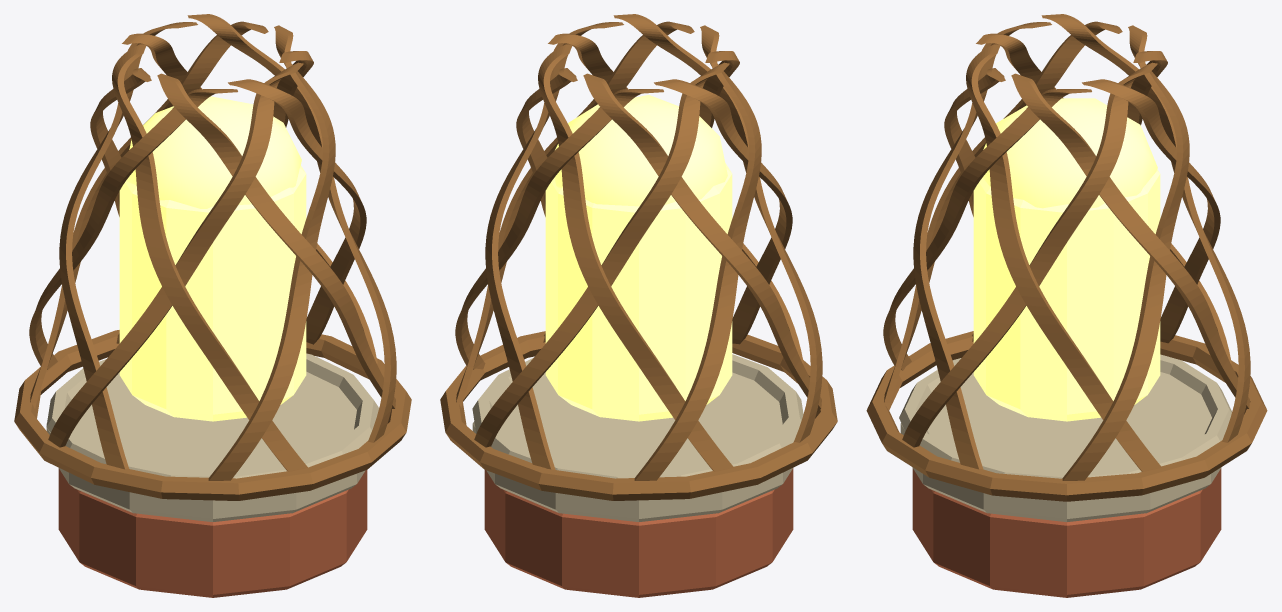
Rendered from WickerGardenLantern.glb.
The picture shows the model from 3 angles, left to right: view 1: azimuth 30°, elevation 25°; view 2: azimuth 150°, elevation 25°; view 3: azimuth 270°, elevation 25°; orthographic projection.
Visible parts, largest first — view 1: WickerGardenLantern_Wicker, WickerGardenLantern_Glow, WickerGardenLantern_LimestoneBase, WickerGardenLantern_TerracottaBase; view 2: WickerGardenLantern_Wicker, WickerGardenLantern_Glow, WickerGardenLantern_LimestoneBase, WickerGardenLantern_TerracottaBase; view 3: WickerGardenLantern_Wicker, WickerGardenLantern_Glow, WickerGardenLantern_LimestoneBase, WickerGardenLantern_TerracottaBase.
Part boxes in pixels (x1=…): WickerGardenLantern_Wicker: x1=14, y1=14, x2=411, y2=500; WickerGardenLantern_Glow: x1=119, y1=96, x2=306, y2=421; WickerGardenLantern_LimestoneBase: x1=46, y1=353, x2=378, y2=521; WickerGardenLantern_TerracottaBase: x1=58, y1=468, x2=367, y2=597; WickerGardenLantern_Wicker: x1=440, y1=14, x2=837, y2=500; WickerGardenLantern_Glow: x1=545, y1=95, x2=732, y2=421; WickerGardenLantern_LimestoneBase: x1=472, y1=354, x2=803, y2=521; WickerGardenLantern_TerracottaBase: x1=484, y1=468, x2=793, y2=597; WickerGardenLantern_Wicker: x1=866, y1=14, x2=1267, y2=501; WickerGardenLantern_Glow: x1=973, y1=98, x2=1160, y2=421; WickerGardenLantern_LimestoneBase: x1=899, y1=354, x2=1231, y2=521; WickerGardenLantern_TerracottaBase: x1=912, y1=468, x2=1221, y2=597.
Size of the model in its own units: 0.494 by 0.655 by 0.494.
